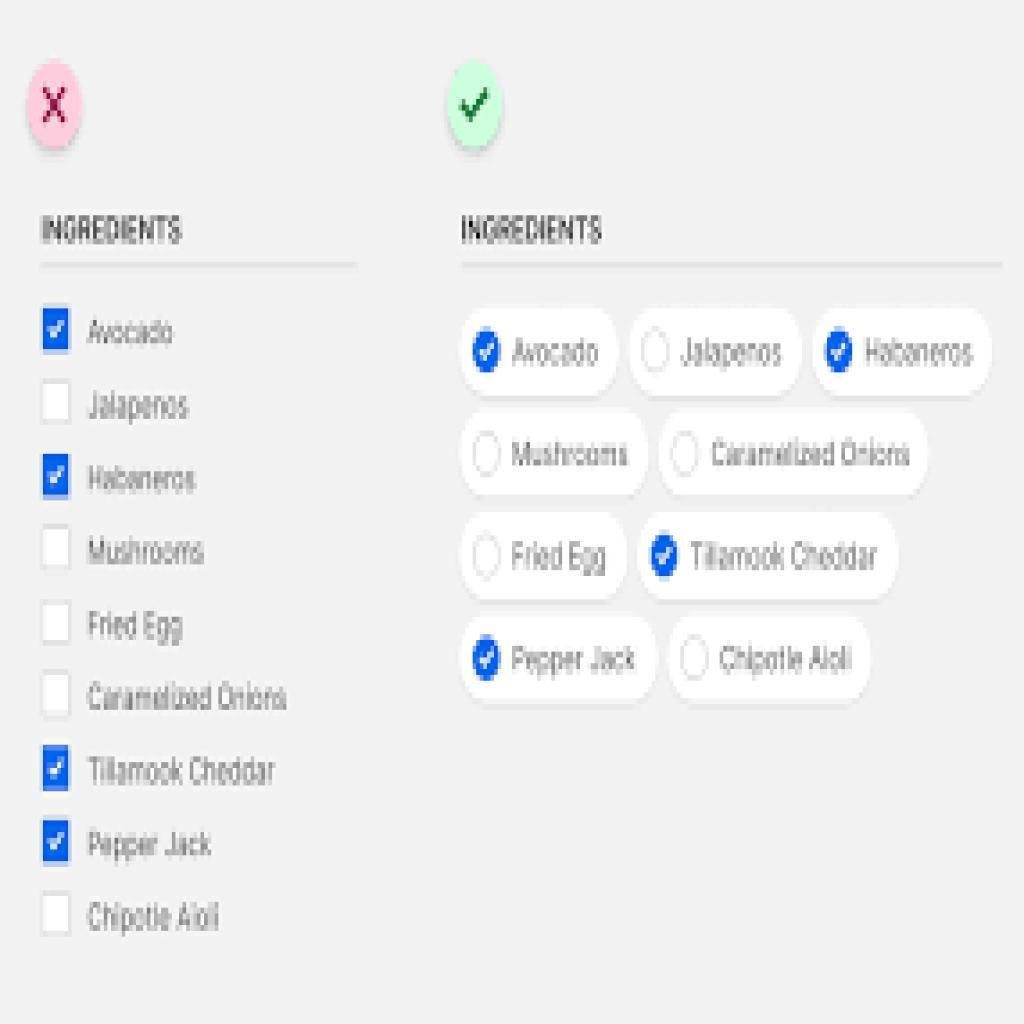checkbox: (35, 738, 79, 800), (37, 449, 81, 507), (35, 666, 77, 725), (37, 596, 81, 652), (36, 889, 79, 946), (37, 302, 77, 363), (36, 522, 77, 581), (36, 813, 76, 873), (36, 377, 74, 430)
radio: (646, 526, 684, 585), (823, 324, 859, 379), (676, 633, 713, 686), (470, 529, 506, 582), (638, 325, 676, 374), (470, 324, 504, 378), (669, 429, 702, 481), (472, 633, 505, 685), (471, 428, 504, 478)
